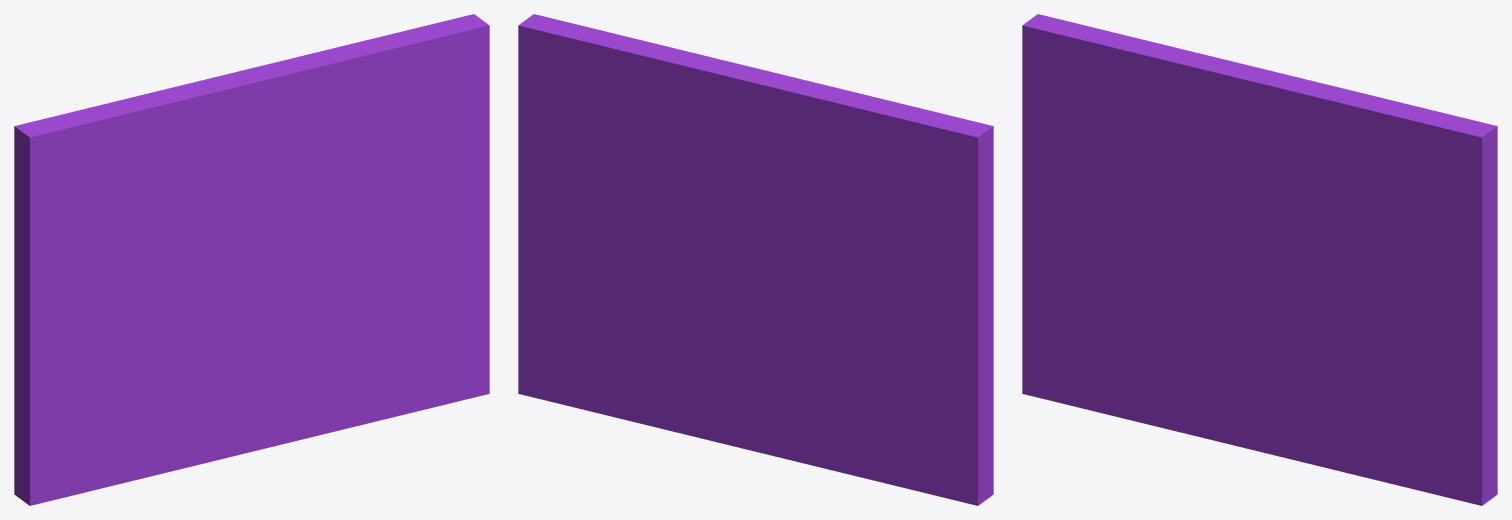
File: Barrier_203_chunks.fbx
3 renders of one model, left to right at view 1: azimuth 30°, elevation 25°; view 2: azimuth 150°, elevation 25°; view 3: azimuth 330°, elevation 25°, orthographic.
Parts seen in each view (by area): view 1: Barrier_203_0, Barrier_203_3, Barrier_203_1, Barrier_203_2; view 2: Barrier_203_0, Barrier_203_3, Barrier_203_1; view 3: Barrier_203_0, Barrier_203_3, Barrier_203_1, Barrier_203_2.
Part boxes in pixels (bbox=[...]): Barrier_203_0: bbox=[14, 94, 244, 505]; Barrier_203_3: bbox=[147, 14, 489, 254]; Barrier_203_1: bbox=[153, 212, 489, 475]; Barrier_203_2: bbox=[237, 226, 302, 294]; Barrier_203_0: bbox=[749, 93, 993, 505]; Barrier_203_3: bbox=[518, 14, 858, 266]; Barrier_203_1: bbox=[518, 215, 853, 475]; Barrier_203_0: bbox=[1022, 14, 1237, 423]; Barrier_203_3: bbox=[1157, 46, 1497, 324]; Barrier_203_1: bbox=[1146, 275, 1497, 505]; Barrier_203_2: bbox=[1229, 215, 1294, 287].
Size of the model in its own units: 376 by 288 by 22.1.
